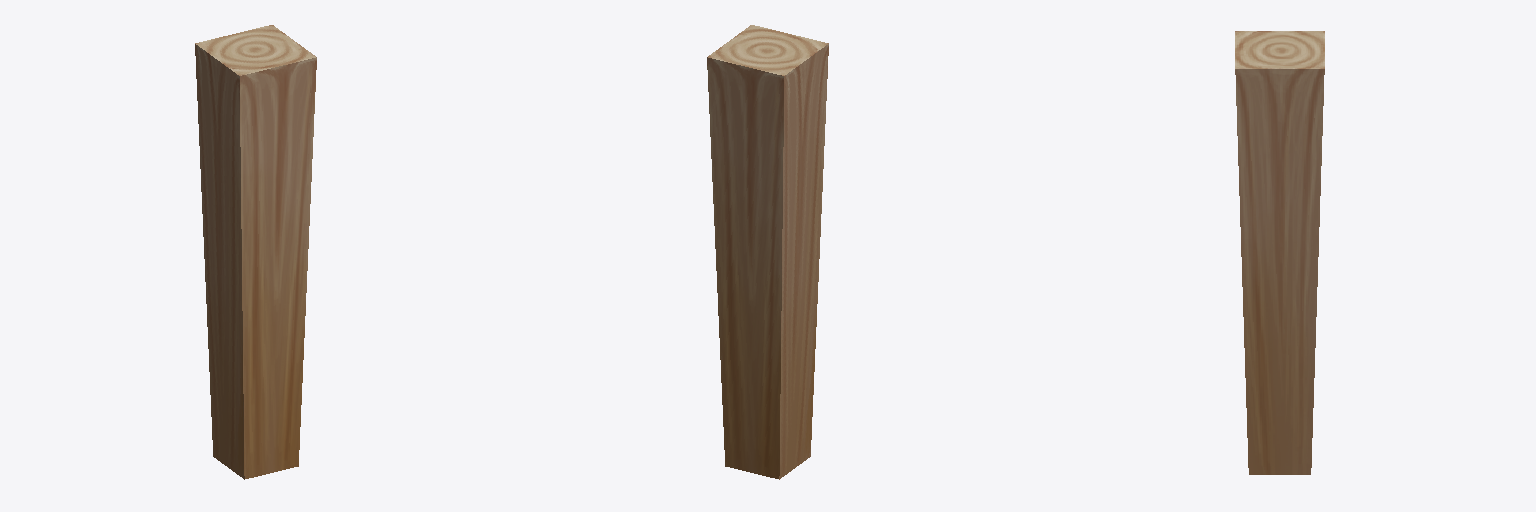
3 views of the same model, side by side, from view 1: azimuth 30°, elevation 25°; view 2: azimuth 150°, elevation 25°; view 3: azimuth 270°, elevation 25° (orthographic).
Parts seen in each view (by area): view 1: fence2_column; view 2: fence2_column; view 3: fence2_column.
Boxes of the visible parts, x1=… form: fence2_column: x1=195, y1=25, x2=316, y2=479; fence2_column: x1=707, y1=25, x2=828, y2=479; fence2_column: x1=1235, y1=31, x2=1324, y2=474.
Bounding box in the file's own units: 10 × 50.76 × 10.
1 materials, 1 textured.